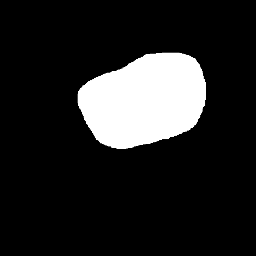mass: (73, 51, 204, 141)
